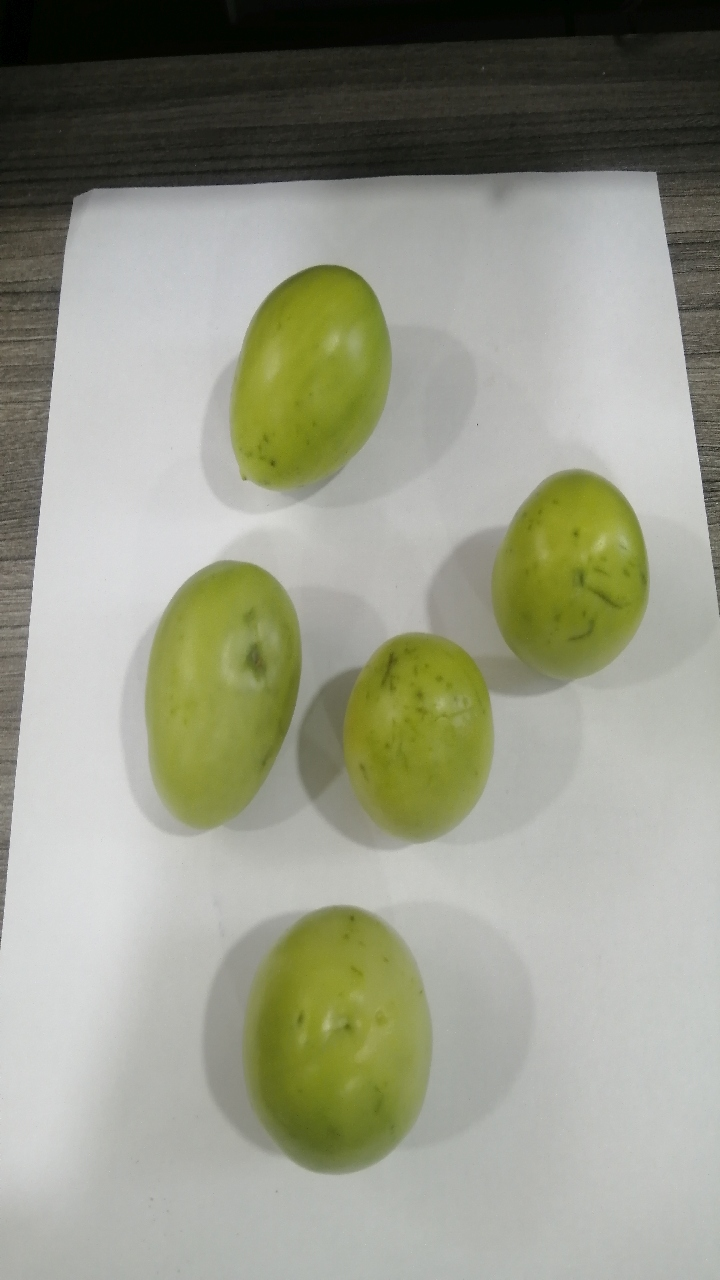tomateVerde: (221, 894, 457, 1182), (132, 539, 317, 840), (214, 259, 418, 512), (475, 446, 663, 709), (326, 611, 512, 859)
